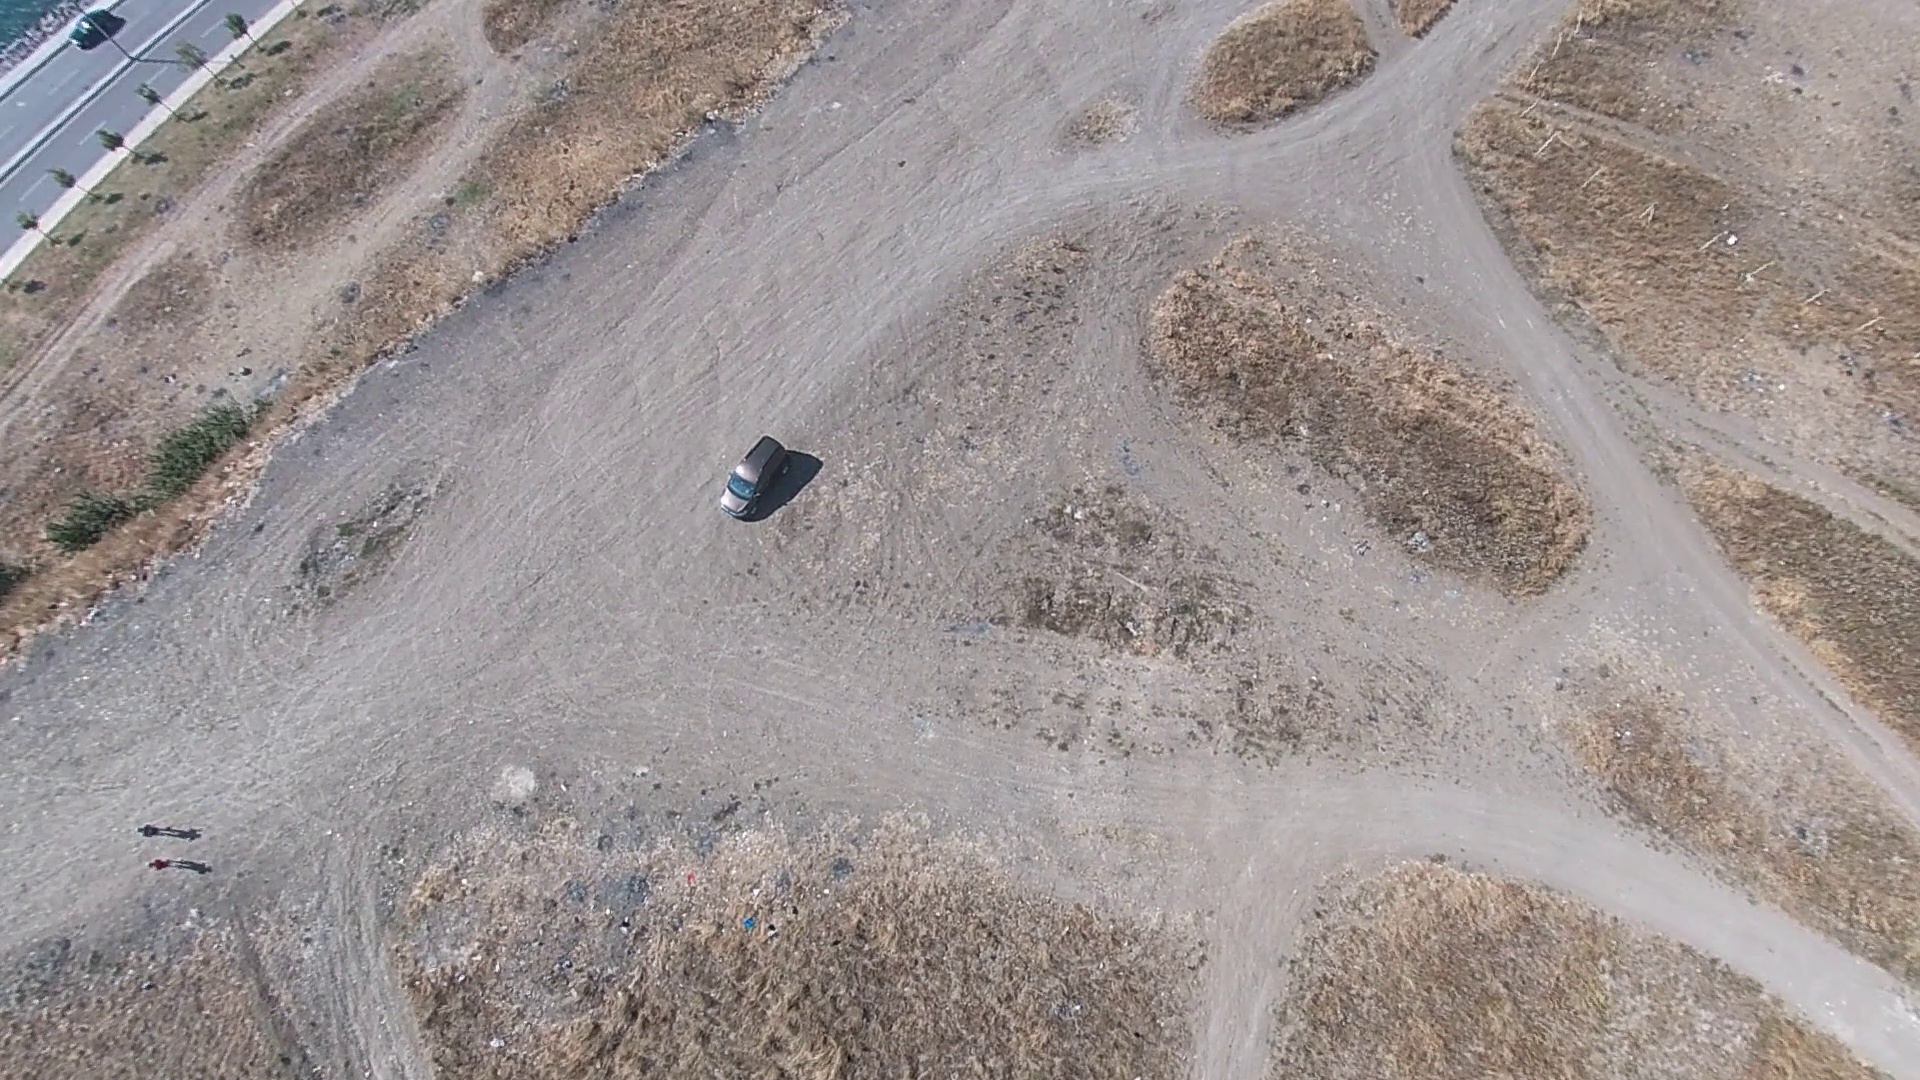araba: (721, 431, 794, 522), (66, 9, 121, 44)
insan: (139, 824, 180, 845), (141, 856, 176, 875)
